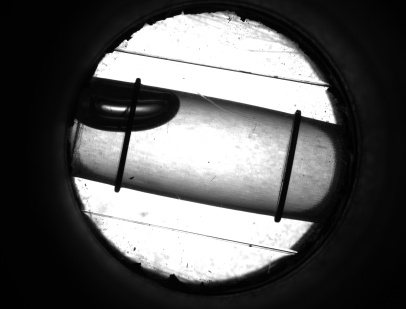line: (273, 134, 300, 204), (113, 139, 132, 173)
